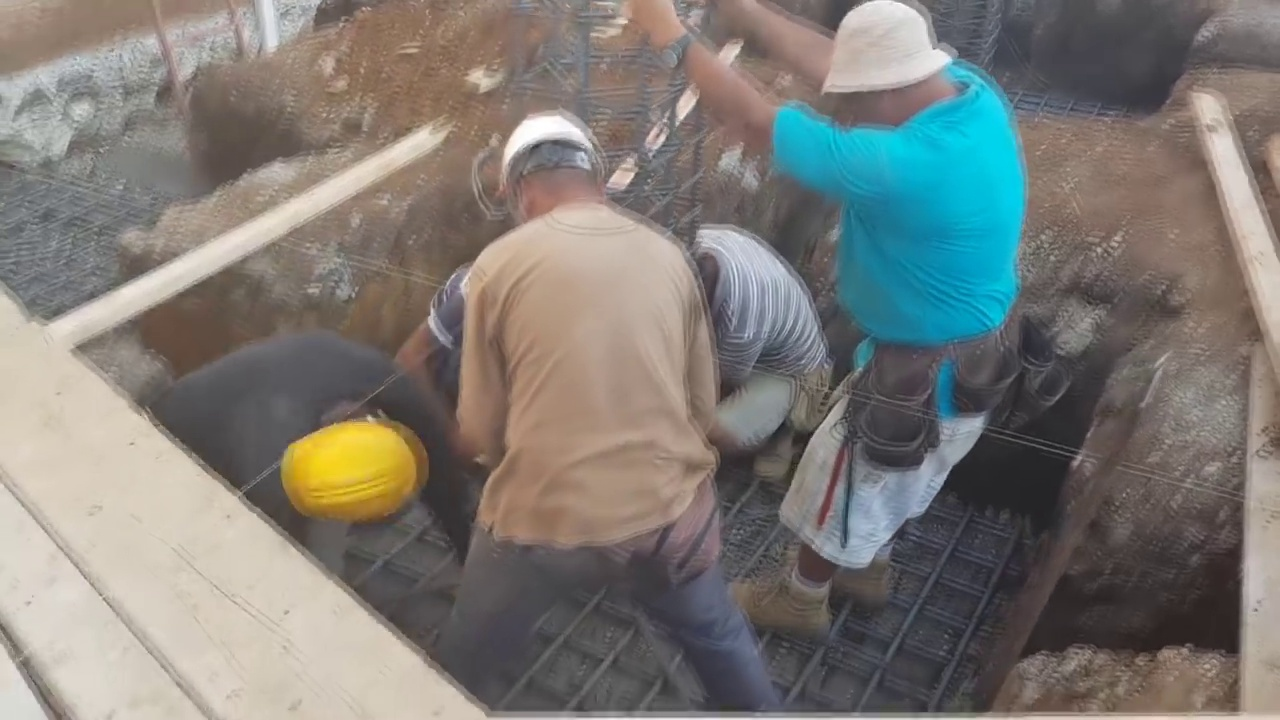helmet: (271, 410, 415, 531), (495, 105, 599, 198)
helmet-off: (815, 0, 970, 138)
helmet-on: (273, 393, 447, 536), (498, 98, 618, 227)
person: (630, 2, 1020, 645), (447, 99, 727, 718), (144, 322, 498, 617), (676, 218, 824, 480)
